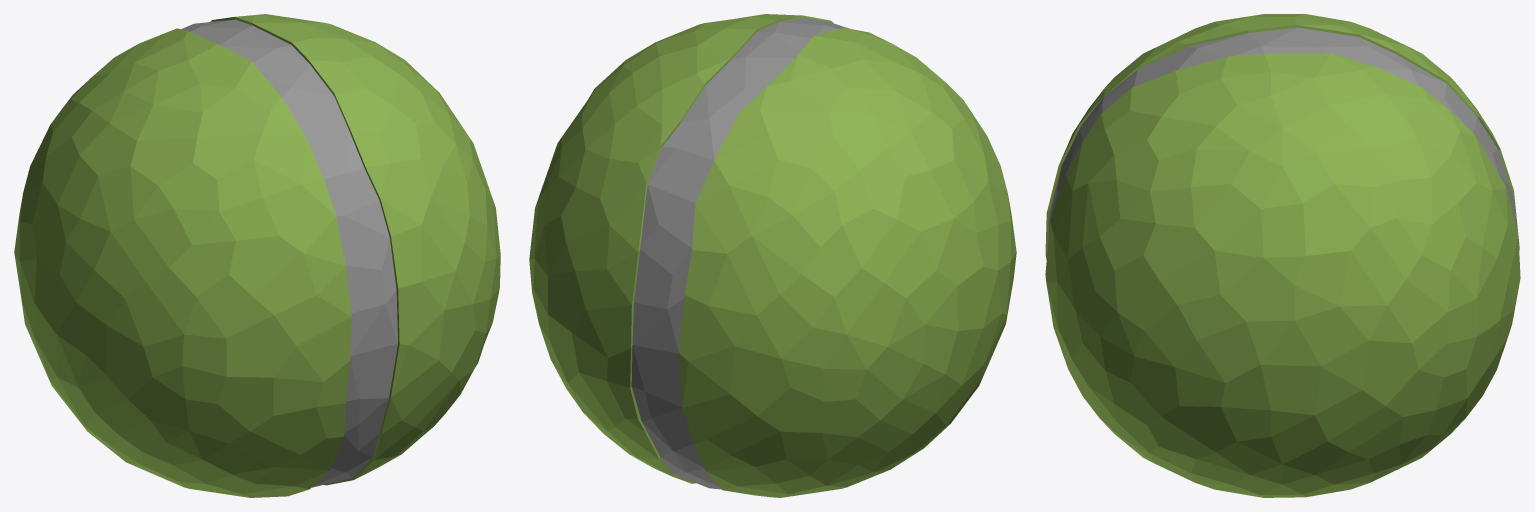
File: planet2.fbx
3 views of the same model, side by side, from view 1: azimuth 30°, elevation 25°; view 2: azimuth 150°, elevation 25°; view 3: azimuth 270°, elevation 25° (orthographic).
Parts seen in each view (by area): view 1: Cube; view 2: Cube; view 3: Cube.
Part boxes in pixels (x1,y1,x2,y2): Cube: [14, 14, 500, 497]; Cube: [529, 14, 1016, 497]; Cube: [1045, 14, 1520, 497].
Size of the model in its own units: 168 by 167 by 167.
